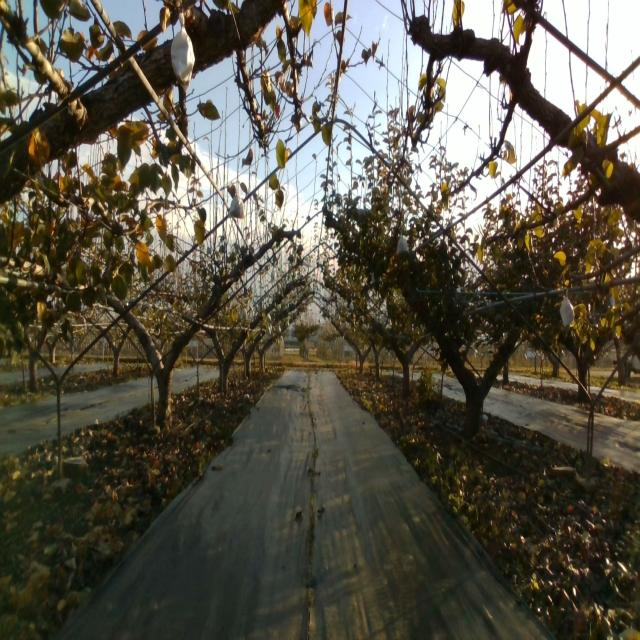pearbags: (171, 12, 196, 92), (228, 188, 245, 219), (560, 295, 574, 326), (396, 237, 410, 257)
